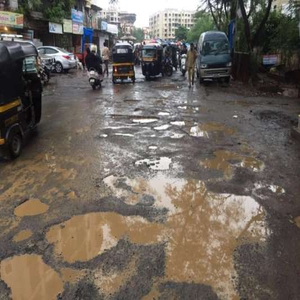pothole: (124, 176, 271, 295), (42, 208, 164, 259), (1, 249, 67, 300), (198, 149, 264, 179), (185, 122, 238, 142), (11, 196, 53, 216), (135, 153, 172, 172), (129, 114, 160, 123)
